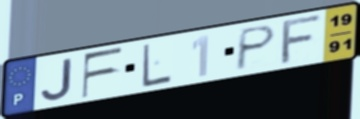1: (191, 33, 212, 79)
F: (277, 12, 325, 67), (80, 45, 126, 101)
J: (39, 56, 75, 102)
L: (141, 42, 173, 89)
P: (233, 23, 279, 73)
